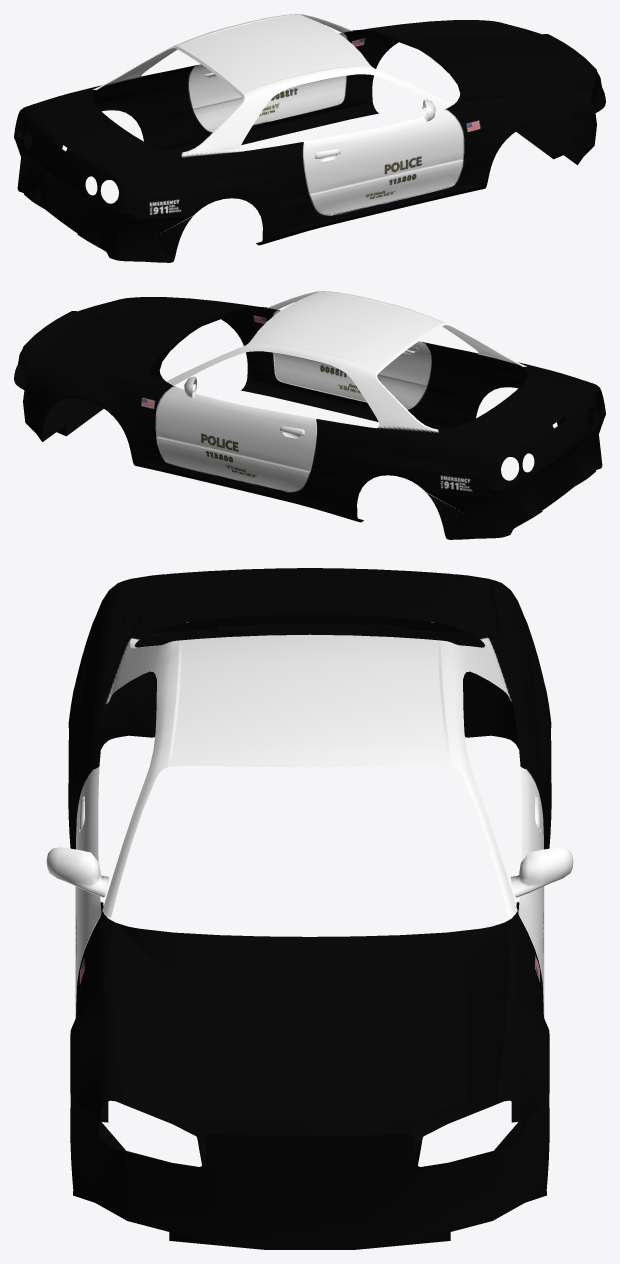
The model's file is gallo99_body_gallo99_bodymat_0.002_lev3.glb.
The picture shows the model from 3 angles, top to bottom: view 1: azimuth 30°, elevation 25°; view 2: azimuth 150°, elevation 25°; view 3: azimuth 270°, elevation 25°; orthographic projection. The views are drawn at different scales.
Parts seen in each view (by area): view 1: gallo99_body_gallo99_bodymat_0.002_lev3; view 2: gallo99_body_gallo99_bodymat_0.002_lev3; view 3: gallo99_body_gallo99_bodymat_0.002_lev3.
Boxes of the visible parts, x1,y1,x2,y2 form: gallo99_body_gallo99_bodymat_0.002_lev3: (14,14,605,262); gallo99_body_gallo99_bodymat_0.002_lev3: (14,291,605,539); gallo99_body_gallo99_bodymat_0.002_lev3: (46,568,573,1249).
Bounding box in the file's own units: 4.51 × 1.21 × 1.97.
Materials: 1 (1 with a texture image).
